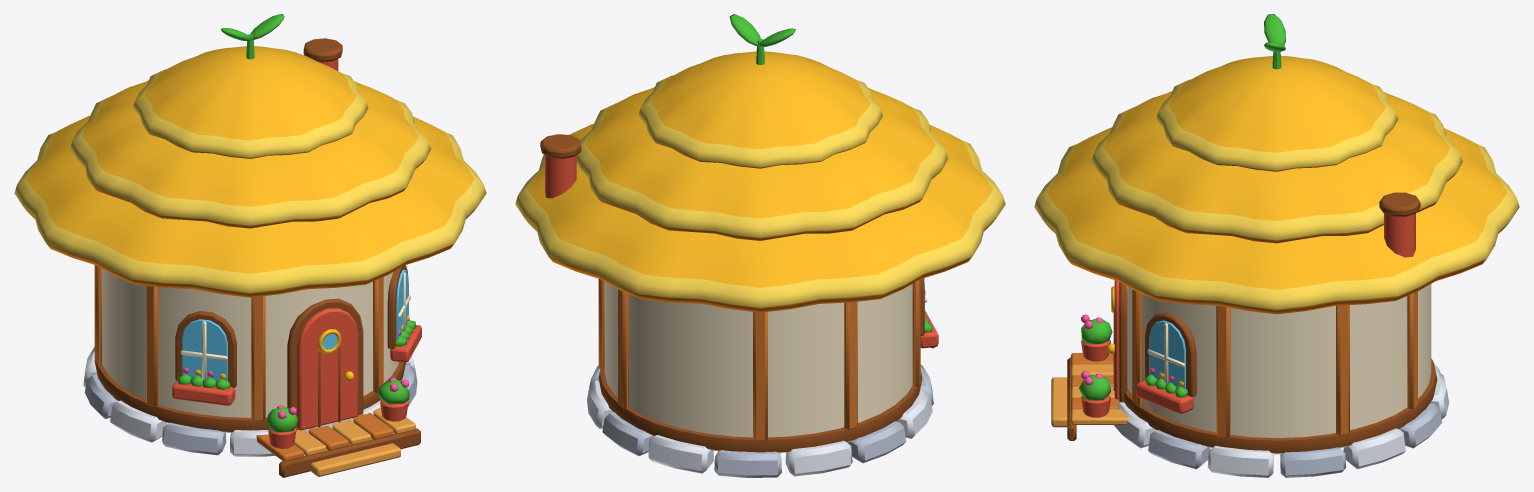
The model's file is cottage.glb.
The picture shows the model from 3 angles, left to right: view 1: azimuth 30°, elevation 25°; view 2: azimuth 150°, elevation 25°; view 3: azimuth 270°, elevation 25°; orthographic projection. The views are drawn at different scales.
Visible parts, largest first — view 1: cottage; view 2: cottage; view 3: cottage.
Part boxes in pixels (box(x1,y1,x2,y2)): cottage: box(14, 14, 486, 477); cottage: box(515, 14, 1005, 477); cottage: box(1034, 14, 1519, 477).
Bounding box in the file's own units: 7.3 × 6.27 × 7.3.
